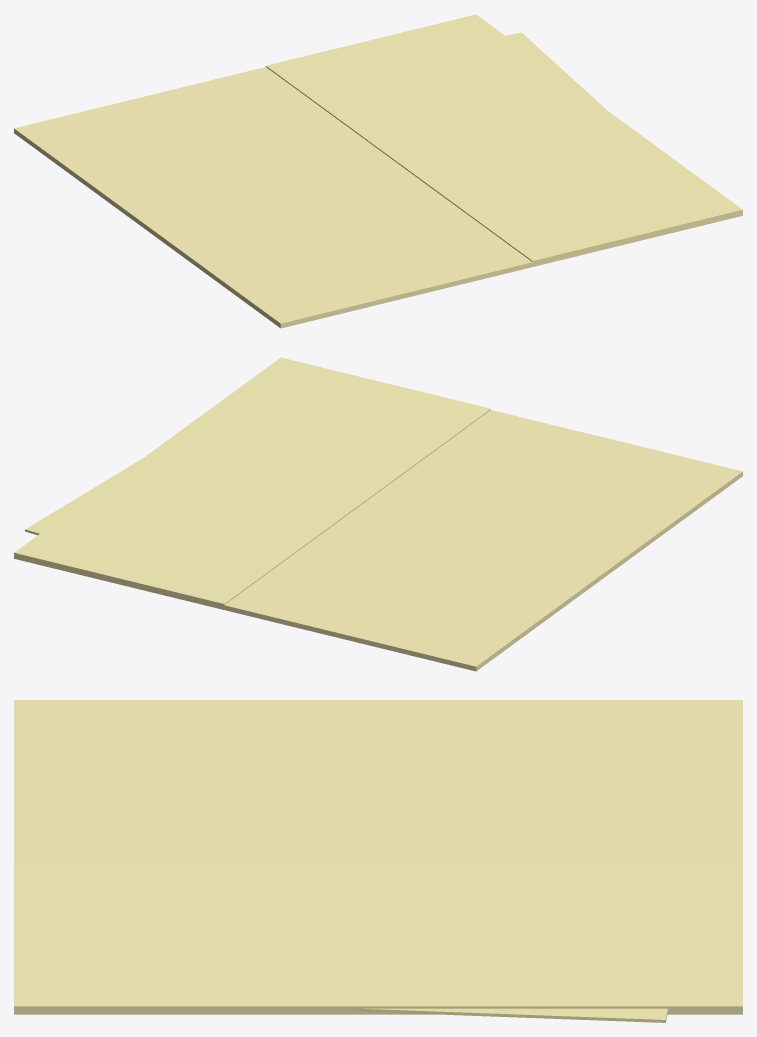
Rendered from road_asphalt_gravel_transition.glb.
3 renders of one model, top to bottom at view 1: azimuth 30°, elevation 25°; view 2: azimuth 150°, elevation 25°; view 3: azimuth 270°, elevation 25°, orthographic. The views are drawn at different scales.
Visible parts, largest first — view 1: asphalt_lane, gravel_lane, loose_edge; view 2: asphalt_lane, gravel_lane, loose_edge; view 3: asphalt_lane, gravel_lane, loose_edge.
Part boxes in pixels (<box>): asphalt_lane: <box>14,67,532,328</box>; gravel_lane: <box>266,14,742,266</box>; loose_edge: <box>505,32,607,110</box>; asphalt_lane: <box>224,410,742,671</box>; gravel_lane: <box>14,357,490,609</box>; loose_edge: <box>25,459,141,535</box>; asphalt_lane: <box>14,700,742,866</box>; gravel_lane: <box>14,866,742,1014</box>; loose_edge: <box>357,1008,667,1022</box>.
Bounding box in the file's own units: 4.15 × 0.05 × 4.
